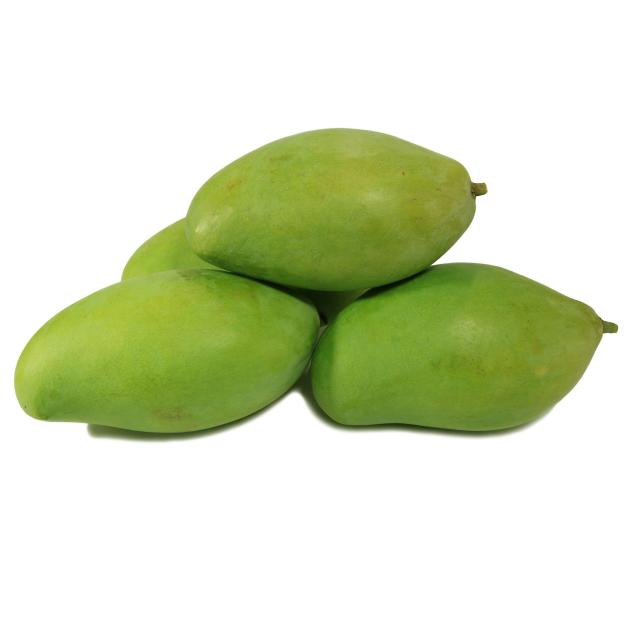Mango: (308, 252, 610, 470), (12, 264, 321, 458), (187, 115, 504, 288)
